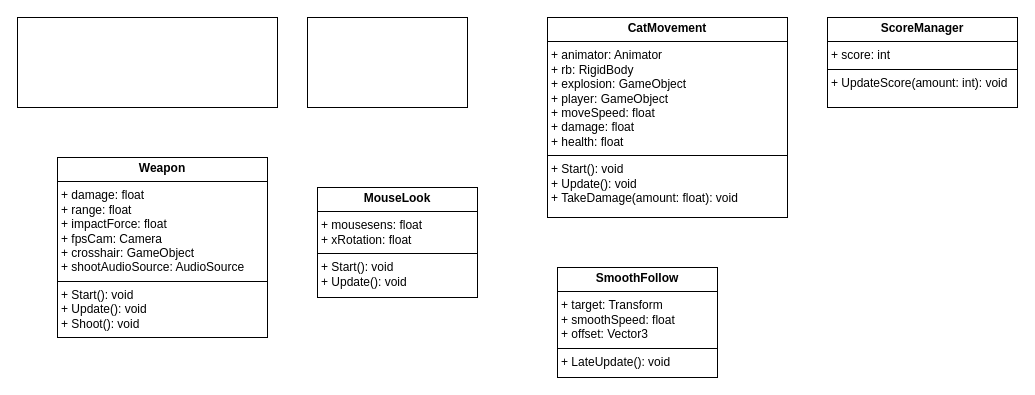
This 1035x395 diagram has some shape labels left out. Each missing label, with the centre of its shape:
Health Display + HealthText: TMP_Text + player: Player + Update(): void: (387,62)
Player + health: float + die(): void + TakeDamage(amount: float): void: (147,62)
